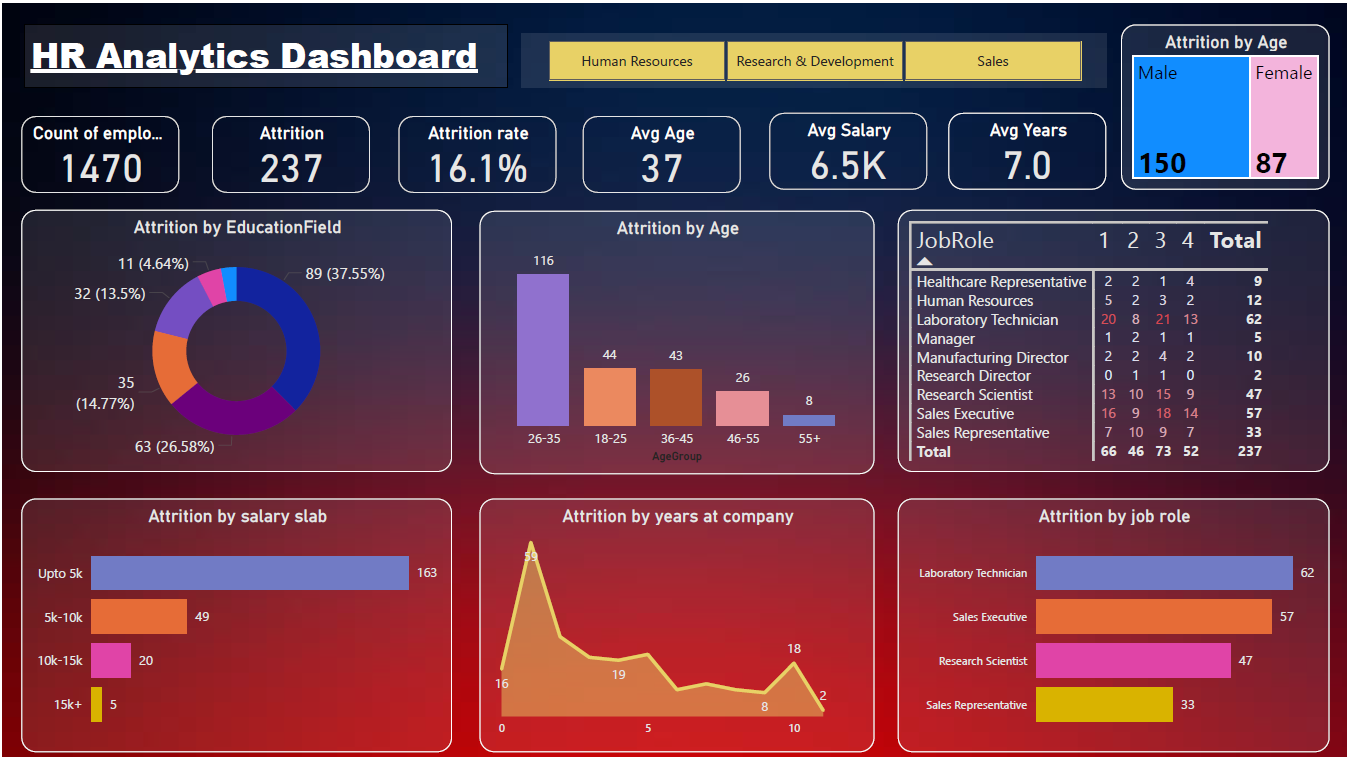

The dashboard page shown, as its layout file describes it:
{"tool":"powerbi","page":{"name":"Page 1","canvas":[1280,720],"ordinal":0},"visuals":[{"type":"card","title":"Count of employee","fields":{"Values":["Sum(HR_Analytics.EmployeeCount)"]},"box":[18.4,107.1,149.9,73.4],"z":0},{"type":"card","title":"Attrition","fields":{"Values":["Sum(HR_Analytics.AttritionCount)"]},"box":[198.9,107.1,149.9,73.4],"z":1000},{"type":"card","title":"Attrition rate","fields":{"Values":["HR_Analytics.Measure"]},"box":[376.3,107.1,149.9,73.4],"z":2000},{"type":"card","title":"Avg Age","fields":{"Values":["Avg(HR_Analytics.Age)"]},"box":[550.7,107.1,149.9,73.4],"z":3000},{"type":"card","title":"Avg Salary","fields":{"Values":["Avg(HR_Analytics.MonthlyIncome)"]},"box":[728.1,104,149.9,73.4],"z":4000},{"type":"card","title":"Avg Years","fields":{"Values":["Avg(HR_Analytics.YearsAtCompany)"]},"box":[897.9,104,149.9,73.4],"z":5000},{"type":"donutChart","title":"Attrition by EducationField","fields":{"Category":["HR_Analytics.EducationField"],"Y":["Sum(HR_Analytics.AttritionCount)"]},"box":[18.4,195.8,408.4,249.3],"z":6000},{"type":"columnChart","title":"Attrition by Age","fields":{"Category":["HR_Analytics.AgeGroup"],"Y":["Sum(HR_Analytics.AttritionCount)"]},"box":[452.8,197.3,374.8,249.3],"z":7000},{"type":"pivotTable","fields":{"Rows":["HR_Analytics.JobRole"],"Columns":["HR_Analytics.JobSatisfaction"],"Values":["Sum(HR_Analytics.AttritionCount)"]},"box":[850.5,195.8,409.9,249.3],"z":8000},{"type":"barChart","title":"Attrition by salary slab","fields":{"Category":["HR_Analytics.SalarySlab"],"Y":["Sum(HR_Analytics.AttritionCount)"]},"box":[18.4,469.6,408.4,241.7],"z":9000},{"type":"barChart","title":"Attrition by job role","fields":{"Y":["Sum(HR_Analytics.AttritionCount)"],"Category":["HR_Analytics.JobRole"]},"box":[850.5,469.6,409.9,241.7],"z":10000},{"type":"areaChart","title":"Attrition by years at company","fields":{"Category":["HR_Analytics.YearsAtCompany"],"Y":["Sum(HR_Analytics.AttritionCount)"]},"box":[452.8,469.6,374.8,241.7],"z":11000},{"type":"treemap","title":"Attrition by Age","fields":{"Group":["HR_Analytics.Gender"],"Values":["Sum(HR_Analytics.AttritionCount)"]},"box":[1061.6,19.9,198.9,157.6],"z":12000},{"type":"slicer","fields":{"Values":["HR_Analytics.Department"]},"box":[492.5,29.1,555.3,50.5],"z":13000},{"type":"textbox","box":[21.4,19.9,458.9,59.7],"z":14000}]}

Visuals, with their boxes in screenshot pixels (x1, y1, x2, y2), scaled from the page's 1280x720 canvas onto the 1347x757 screenshot:
"Count of employee" card: detection(19, 113, 177, 190)
"Attrition" card: detection(209, 113, 367, 190)
"Attrition rate" card: detection(396, 113, 554, 190)
"Avg Age" card: detection(580, 113, 737, 190)
"Avg Salary" card: detection(766, 109, 924, 187)
"Avg Years" card: detection(945, 109, 1103, 187)
"Attrition by EducationField" donutChart: detection(19, 206, 449, 468)
"Attrition by Age" columnChart: detection(477, 207, 871, 470)
pivotTable - HR_Analytics.JobRole x HR_Analytics.JobSatisfaction: detection(895, 206, 1326, 468)
"Attrition by salary slab" barChart: detection(19, 494, 449, 748)
"Attrition by job role" barChart: detection(895, 494, 1326, 748)
"Attrition by years at company" areaChart: detection(477, 494, 871, 748)
"Attrition by Age" treemap: detection(1117, 21, 1326, 187)
slicer - HR_Analytics.Department: detection(518, 31, 1103, 84)
textbox: detection(23, 21, 505, 84)
